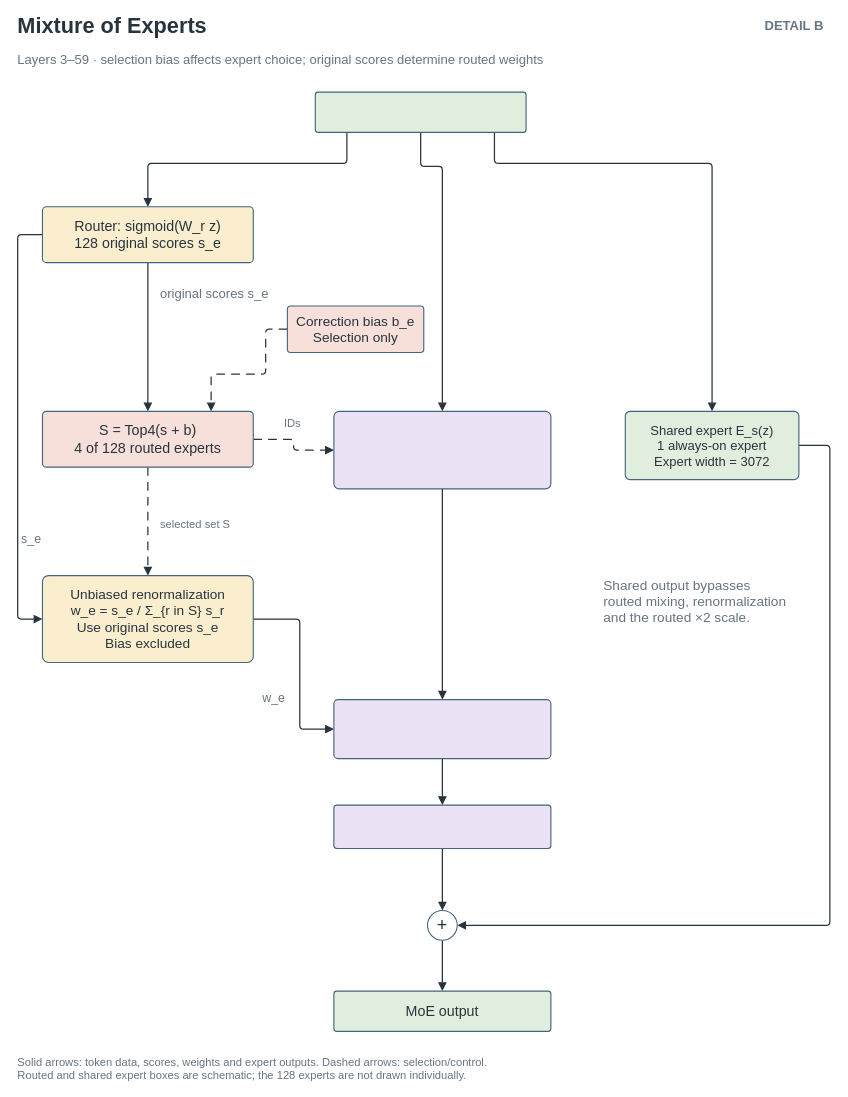
The diagram is 848 pixels wide and 1097 high, and some of its shapes have lost their labels. Here are the shapes that lost their labels. From the top down, the centre of each, then its label:
(420,112): z = Norm(h)
(442,450): Selected experts E_e(z), e in S 4 of 128 routed Expert width = 3072
(442,729): Weighted routed sum Σ_{e in S} w_e E_e(z)
(442,826): Routed scale ×2
